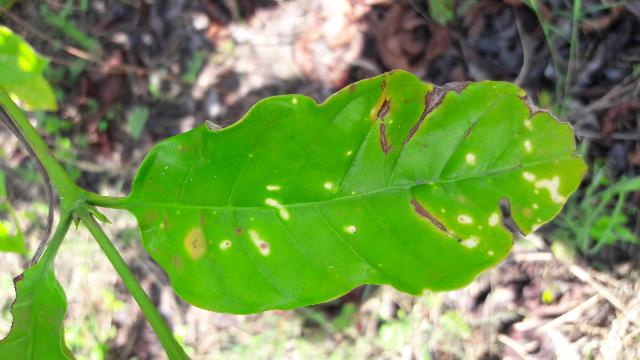rust_level_2: (132, 74, 588, 311)
